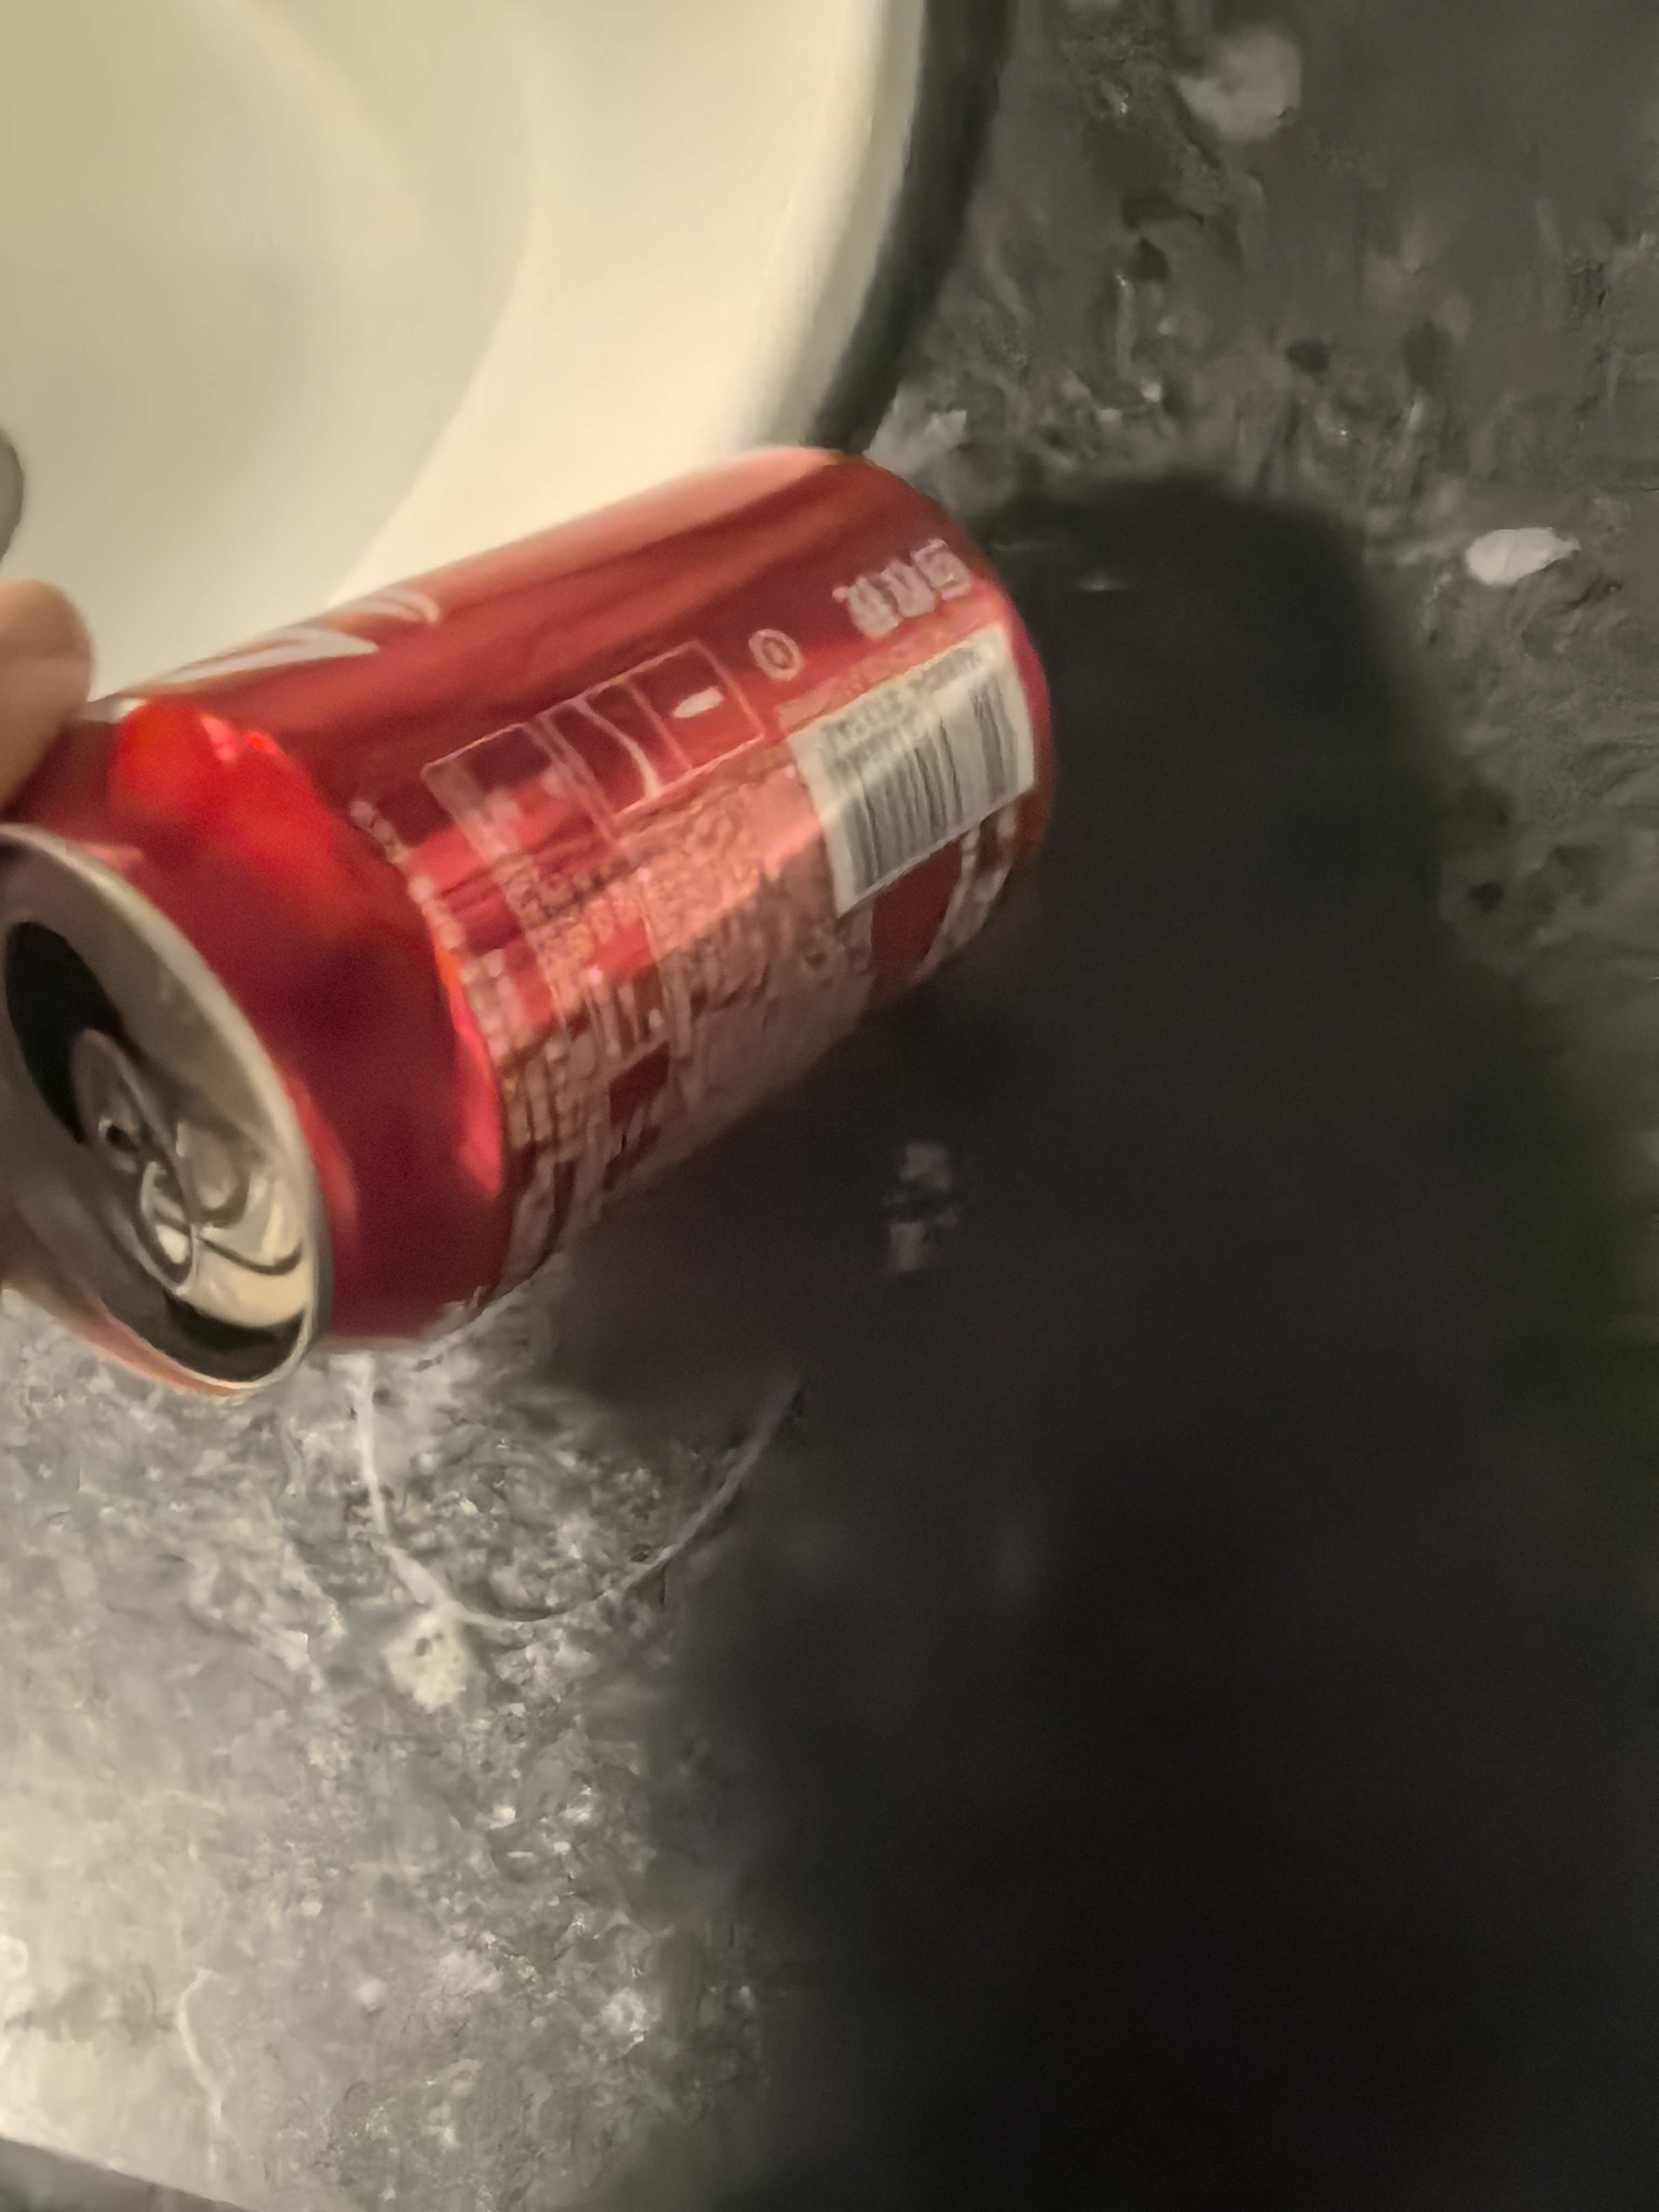可乐: (12, 448, 1175, 1463)
